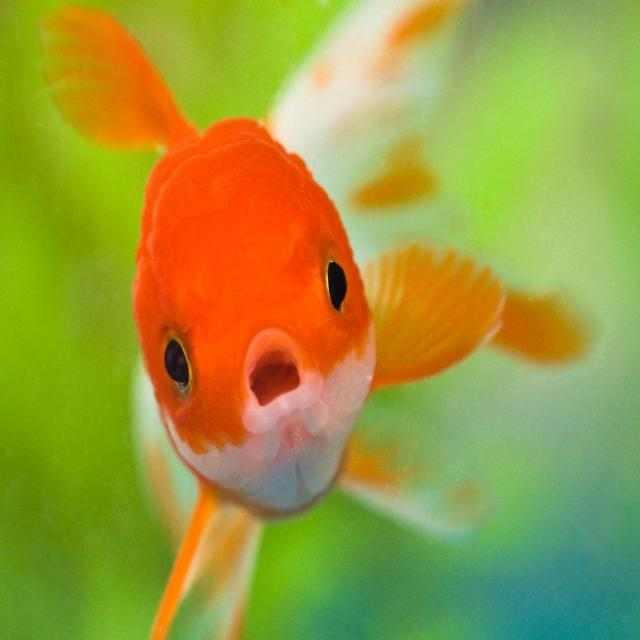GoldFish: (36, 5, 507, 640)
